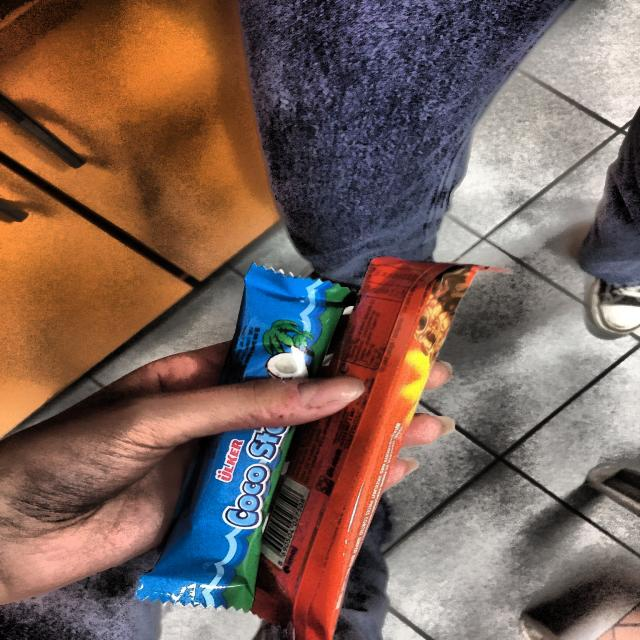Plastic: (259, 244, 499, 634), (153, 253, 344, 607)
